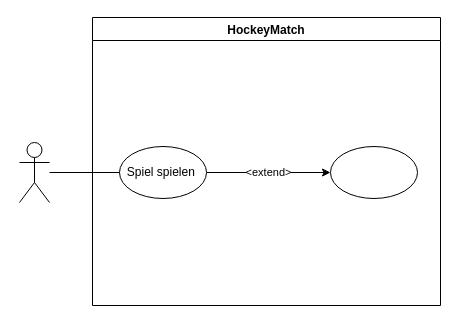
Image size: 458x323. Some labels were removed from this diagram. The shapes that lost their labels are listed below. From the top down, each one's centre as x and y in pixels, then its label:
At [34,172]: "Player".
At [374,172]: "Fragen beantworten".
